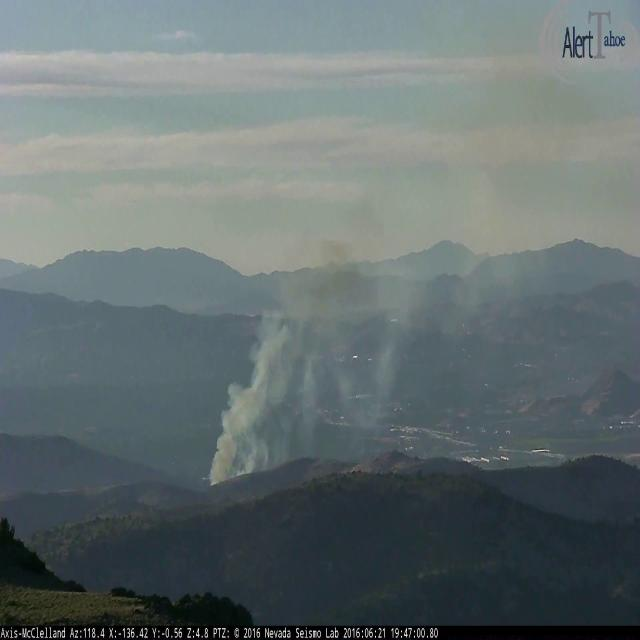smoke: (207, 94, 522, 486)
